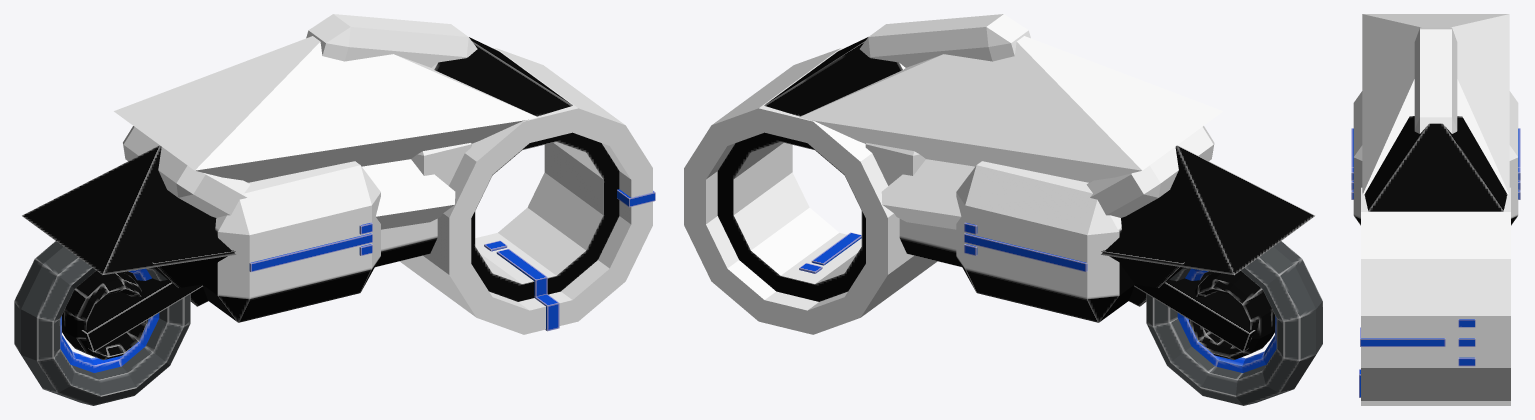
The model's file is tronbikeme2.obj.
3 views of the same model, side by side, from view 1: azimuth 30°, elevation 25°; view 2: azimuth 150°, elevation 25°; view 3: azimuth 270°, elevation 25° (orthographic). The views are drawn at different scales.
Parts seen in each view (by area): view 1: pyramid, tube, beveled_cuboid, torus, cuboid; view 2: pyramid, tube, beveled_cuboid, torus, cuboid; view 3: tube, pyramid, beveled_cuboid, cuboid.
Boxes of the visible parts, box(x1,y1,x2,y2) form: pyramid: box(22, 36, 572, 306); tube: box(400, 48, 652, 334); beveled_cuboid: box(123, 14, 477, 322); torus: box(14, 241, 190, 405); cuboid: box(81, 189, 655, 352); pyramid: box(764, 36, 1315, 306); tube: box(684, 48, 937, 334); beveled_cuboid: box(860, 14, 1214, 322); torus: box(1146, 241, 1322, 405); cuboid: box(799, 222, 1255, 352); tube: box(1361, 187, 1510, 405); pyramid: box(1362, 14, 1509, 211); beveled_cuboid: box(1353, 27, 1518, 225); cuboid: box(1351, 128, 1520, 397).
Size of the model in its own units: 3.64 by 1.87 by 0.9875.
Materials: 1 (1 with a texture image).
